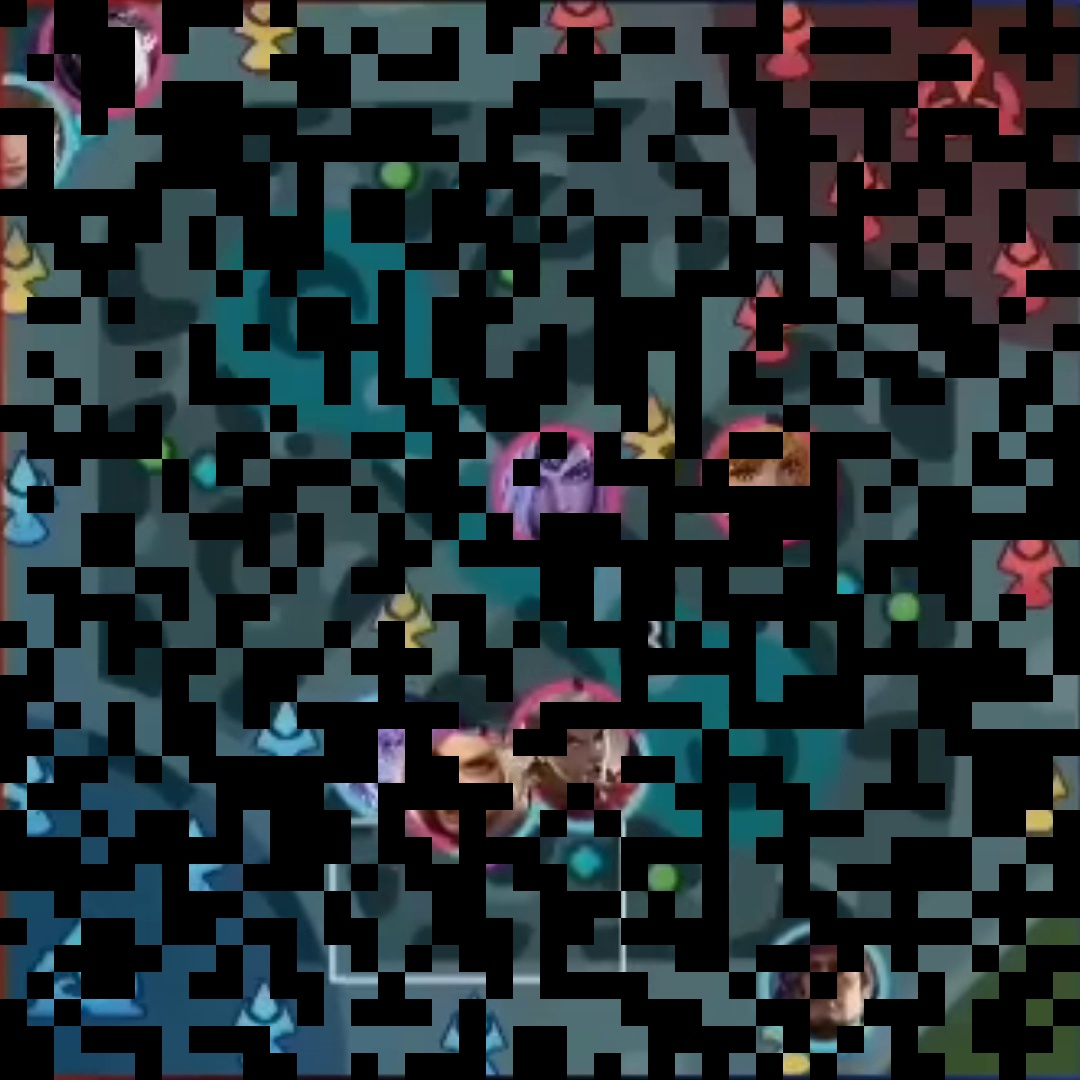Chou: (521, 689, 627, 787)
Claude: (52, 2, 159, 103)
Fanny: (714, 418, 820, 531)
Lapu-Lapu: (771, 928, 873, 1039)
Masha: (416, 729, 515, 834)
Novaria: (336, 696, 422, 816)
Valentina: (501, 431, 614, 547)
Wanwan: (1, 85, 66, 192)
